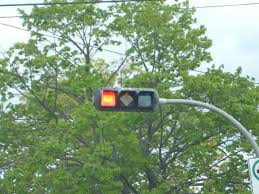signal: (95, 87, 158, 111)
